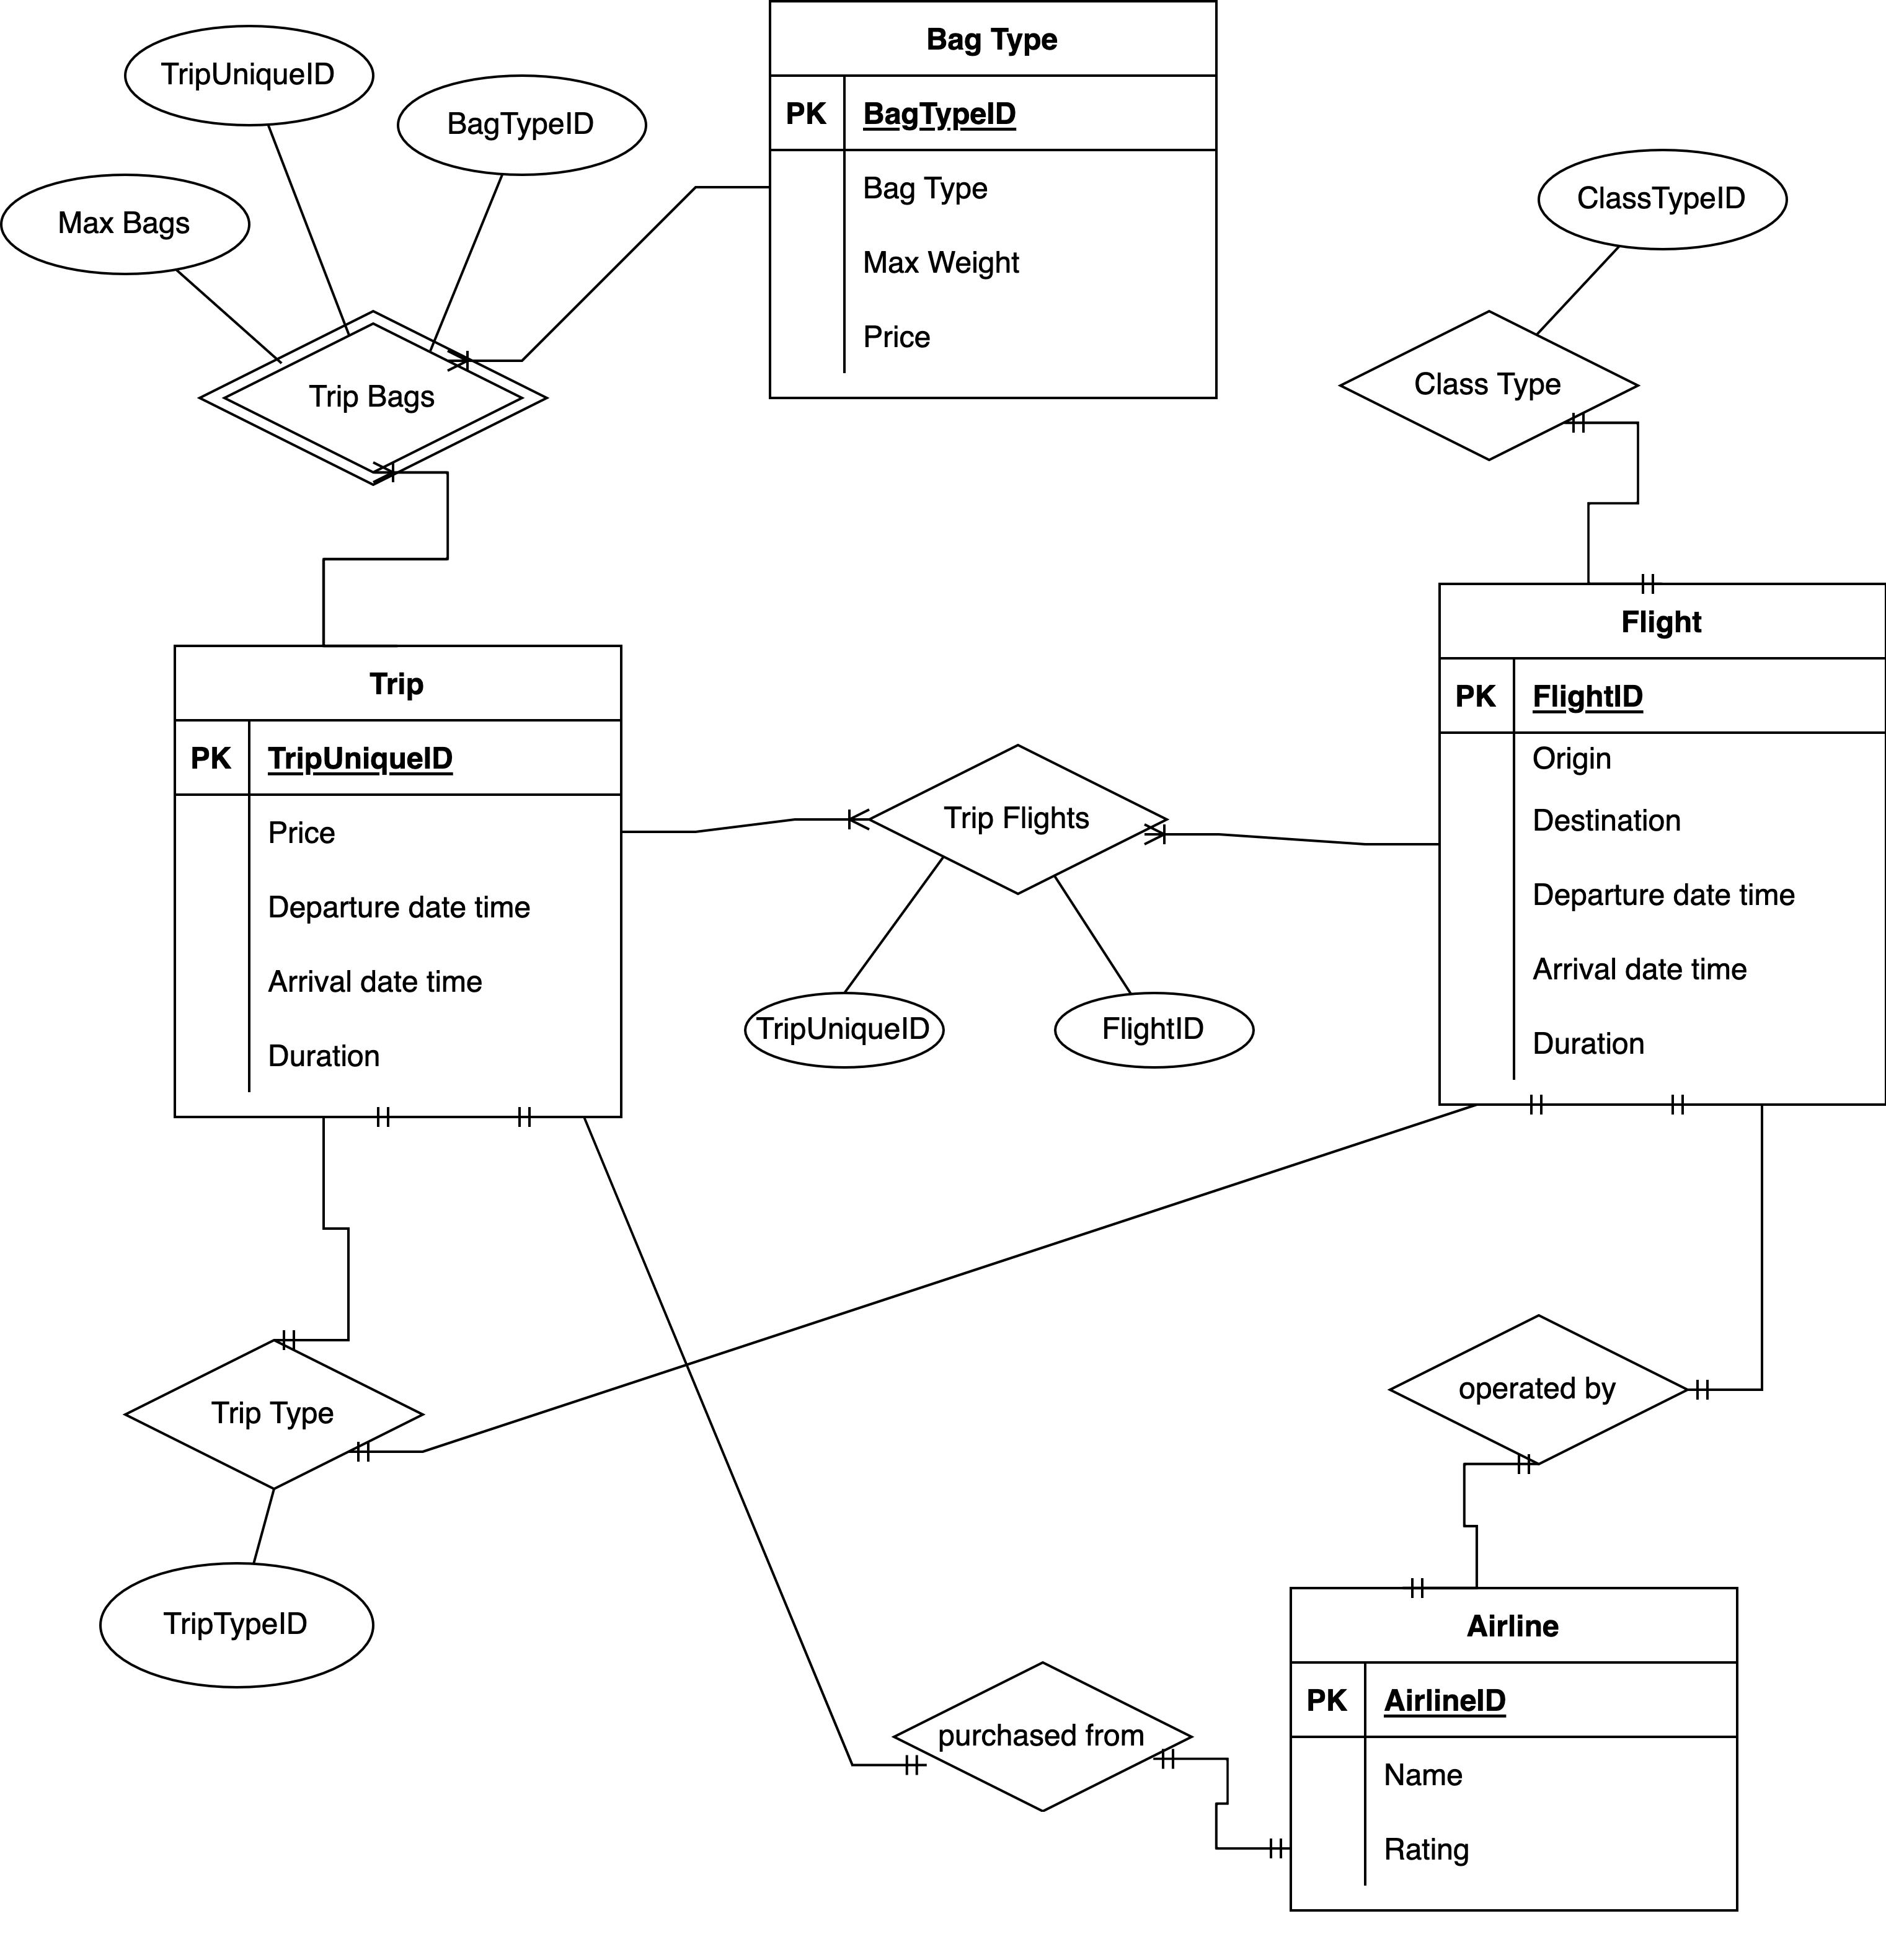attribute: (95, 1563, 375, 1694), (394, 72, 643, 178), (1545, 143, 1790, 248), (0, 173, 249, 276), (119, 24, 371, 124), (1049, 989, 1252, 1073), (735, 994, 942, 1067)
entity: (1429, 583, 1886, 1111), (163, 642, 630, 1120), (762, 0, 1226, 404), (1282, 1584, 1748, 1920)
relationship: (862, 732, 1168, 894), (1341, 301, 1641, 460), (895, 1659, 1191, 1809), (1394, 1316, 1685, 1466), (128, 1346, 417, 1493)
weakrelationship: (200, 306, 546, 492)
